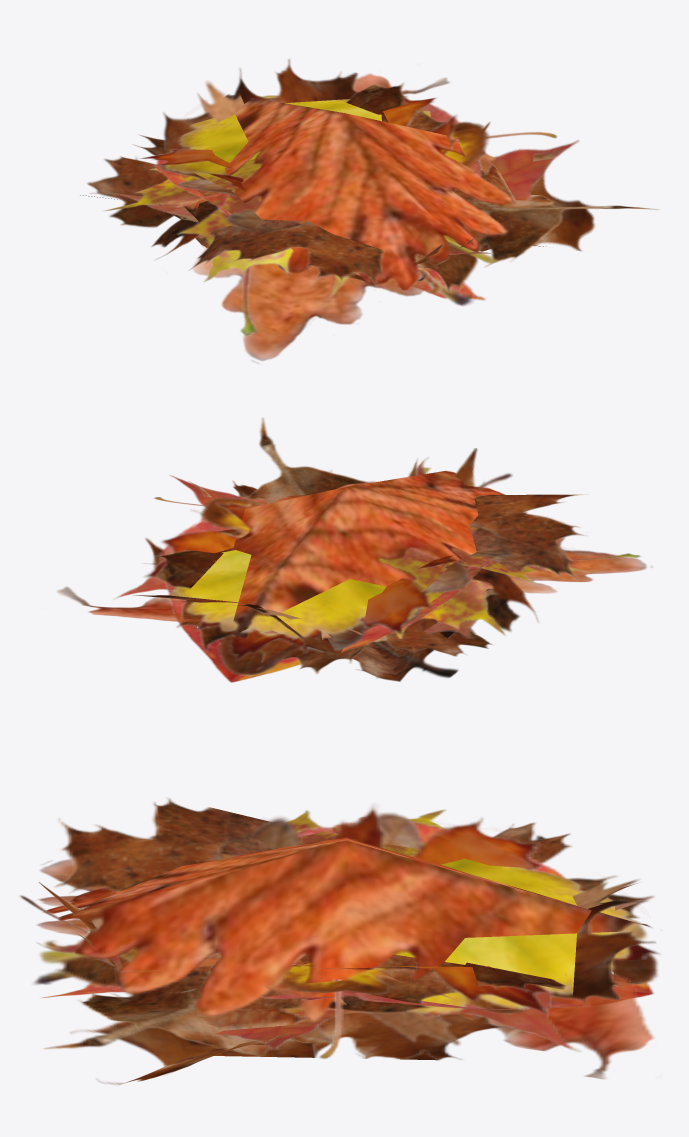
Rendered from Leaves.glb.
The picture shows the model from 3 angles, top to bottom: view 1: azimuth 30°, elevation 25°; view 2: azimuth 150°, elevation 25°; view 3: azimuth 270°, elevation 25°; orthographic projection. The views are drawn at different scales.
Parts seen in each view (by area): view 1: leaf_8, leaf_10, leaf_4, leaf_11, leaf_5, leaf_1, leaf_2, leaf_3, leaf_9, leaf_12, leaf_7; view 2: leaf_8, leaf_10, leaf_1, leaf_9, leaf_3, leaf_5, leaf_11, leaf_4, leaf_12, leaf_2; view 3: leaf_8, leaf_10, leaf_11, leaf_1, leaf_4, leaf_9, leaf_3, leaf_2, leaf_12, leaf_7, leaf_5.
Boxes of the visible parts, bbox=[...] form: leaf_8: bbox=[224, 94, 513, 290]; leaf_10: bbox=[86, 82, 659, 292]; leaf_4: bbox=[185, 73, 489, 363]; leaf_11: bbox=[80, 59, 595, 284]; leaf_5: bbox=[104, 132, 557, 296]; leaf_1: bbox=[165, 95, 498, 263]; leaf_2: bbox=[108, 93, 579, 335]; leaf_3: bbox=[159, 100, 490, 305]; leaf_9: bbox=[139, 97, 457, 293]; leaf_12: bbox=[154, 104, 486, 300]; leaf_7: bbox=[170, 80, 427, 281]; leaf_8: bbox=[232, 471, 505, 638]; leaf_10: bbox=[152, 417, 588, 674]; leaf_1: bbox=[170, 467, 431, 638]; leaf_9: bbox=[143, 501, 457, 660]; leaf_3: bbox=[152, 497, 513, 675]; leaf_5: bbox=[154, 497, 587, 639]; leaf_11: bbox=[133, 448, 484, 681]; leaf_4: bbox=[57, 481, 646, 621]; leaf_12: bbox=[159, 516, 491, 682]; leaf_2: bbox=[112, 457, 641, 641]; leaf_8: bbox=[43, 837, 652, 1021]; leaf_10: bbox=[43, 797, 654, 1056]; leaf_11: bbox=[39, 834, 655, 1085]; leaf_1: bbox=[39, 858, 647, 1013]; leaf_4: bbox=[37, 859, 654, 1079]; leaf_9: bbox=[43, 805, 659, 1014]; leaf_3: bbox=[34, 812, 658, 1013]; leaf_2: bbox=[36, 818, 652, 1052]; leaf_12: bbox=[41, 821, 654, 1009]; leaf_7: bbox=[19, 879, 640, 1045]; leaf_5: bbox=[286, 809, 448, 1058].
Size of the model in its own units: 0.1039 by 0.0271 by 0.1046.
11 materials, 11 textured.
